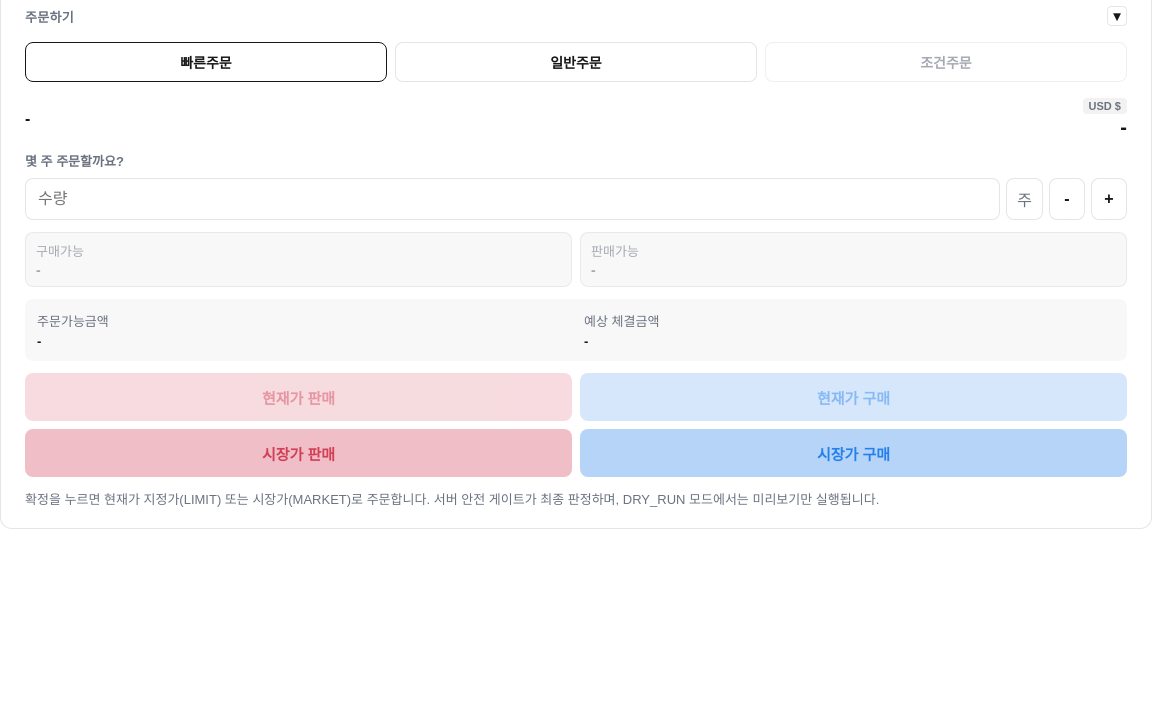
Test: OrderForm — general order › submits confirm:false and renders the DRY_RUN preview
The width and height of the screenshot is (1152, 705).
Click the tab "일반주문". click: coordinates (576, 62)
box: x1=395 y1=42 x2=757 y2=82
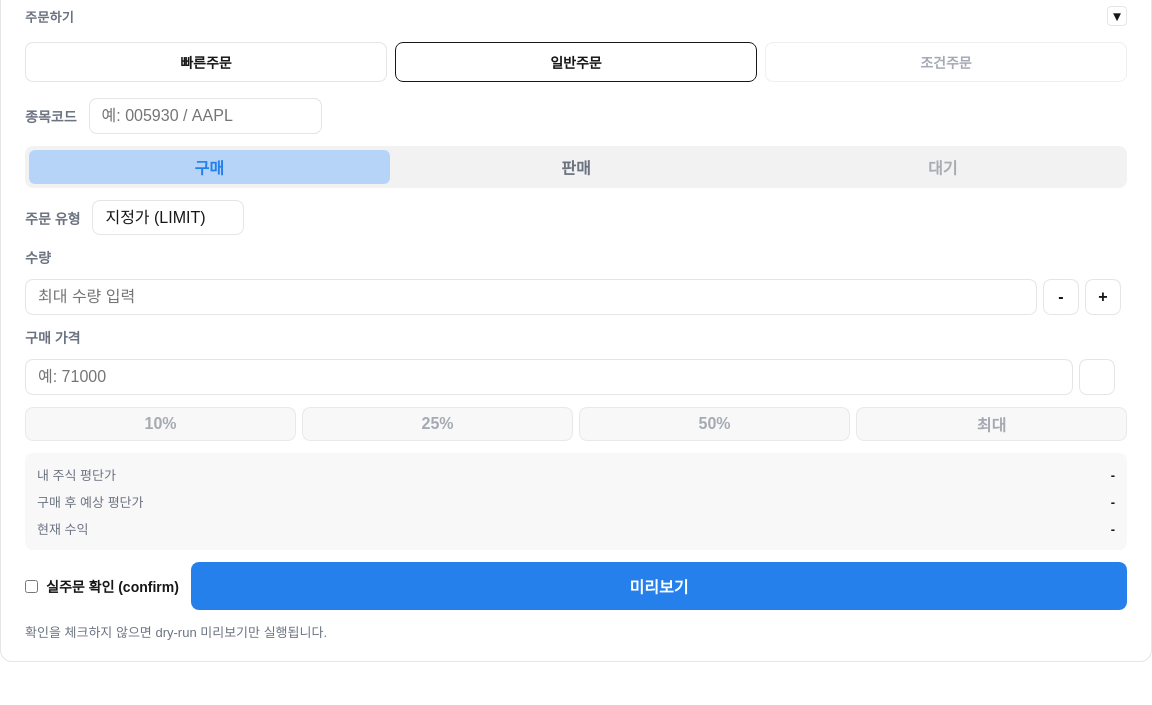
Type "005930" into the field labelled "종목코드". click: coordinates (205, 116)
box: x1=88 y1=98 x2=322 y2=134
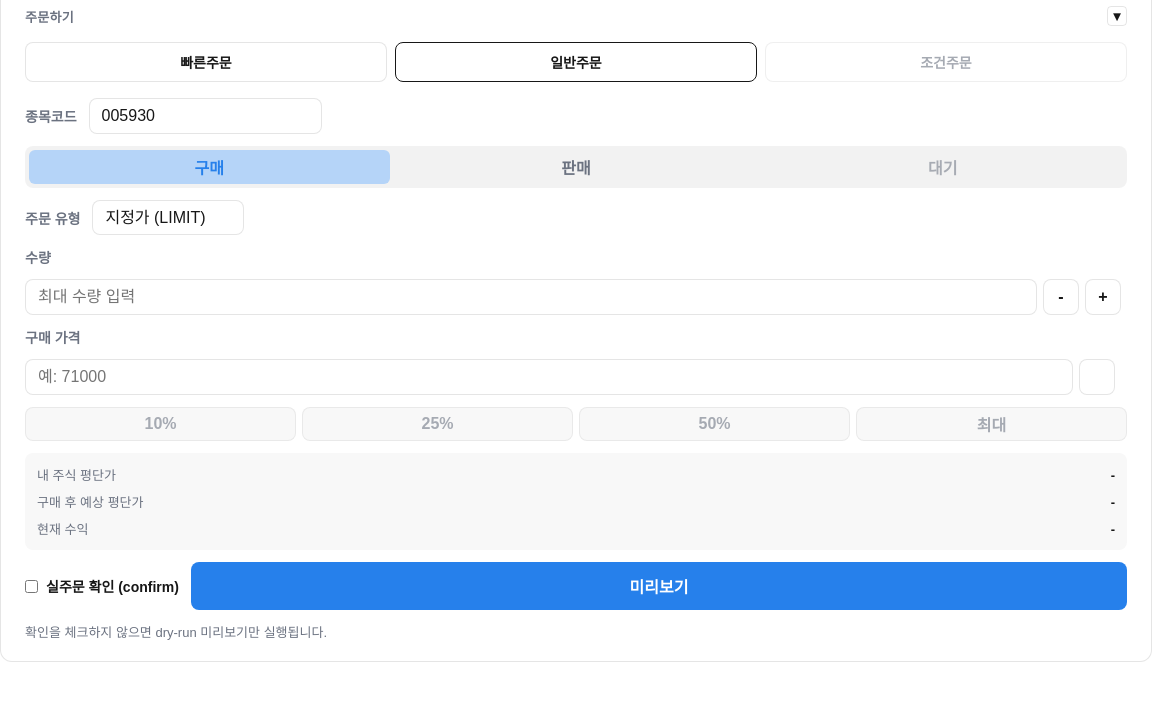
Type "10" into the field labelled "수량". click: coordinates (531, 297)
box: x1=25 y1=279 x2=1037 y2=315
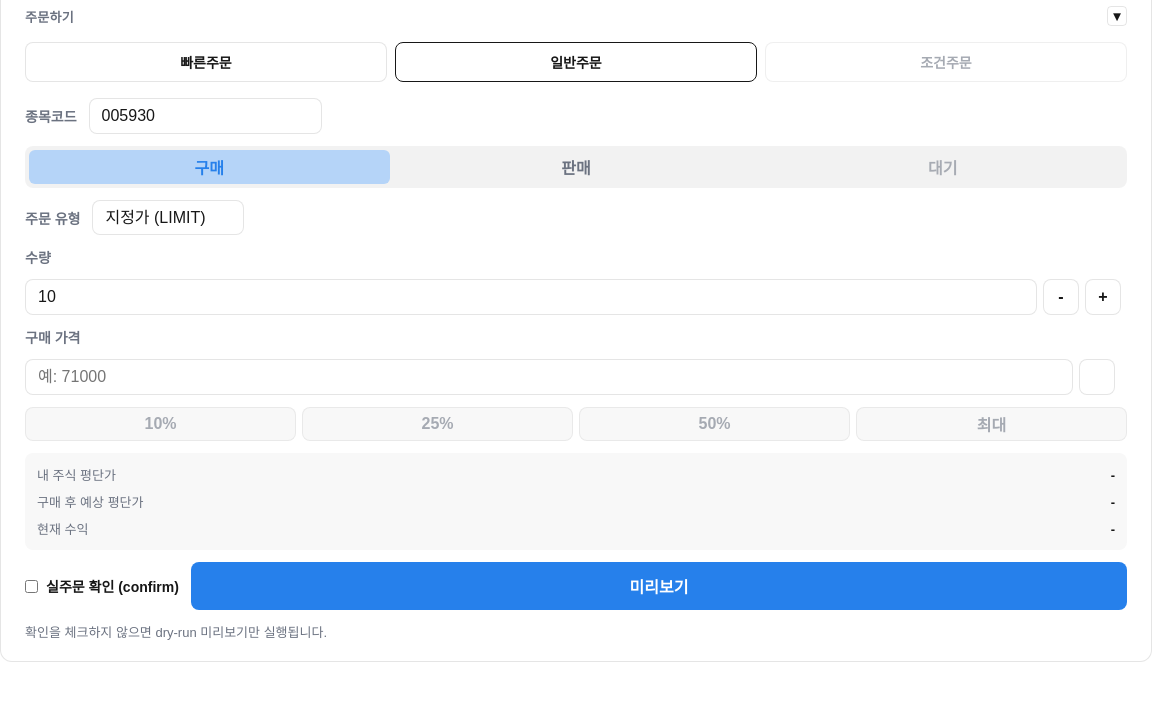
Type "71000" into the field labelled "구매 가격". click: coordinates (549, 377)
box: x1=25 y1=359 x2=1073 y2=395
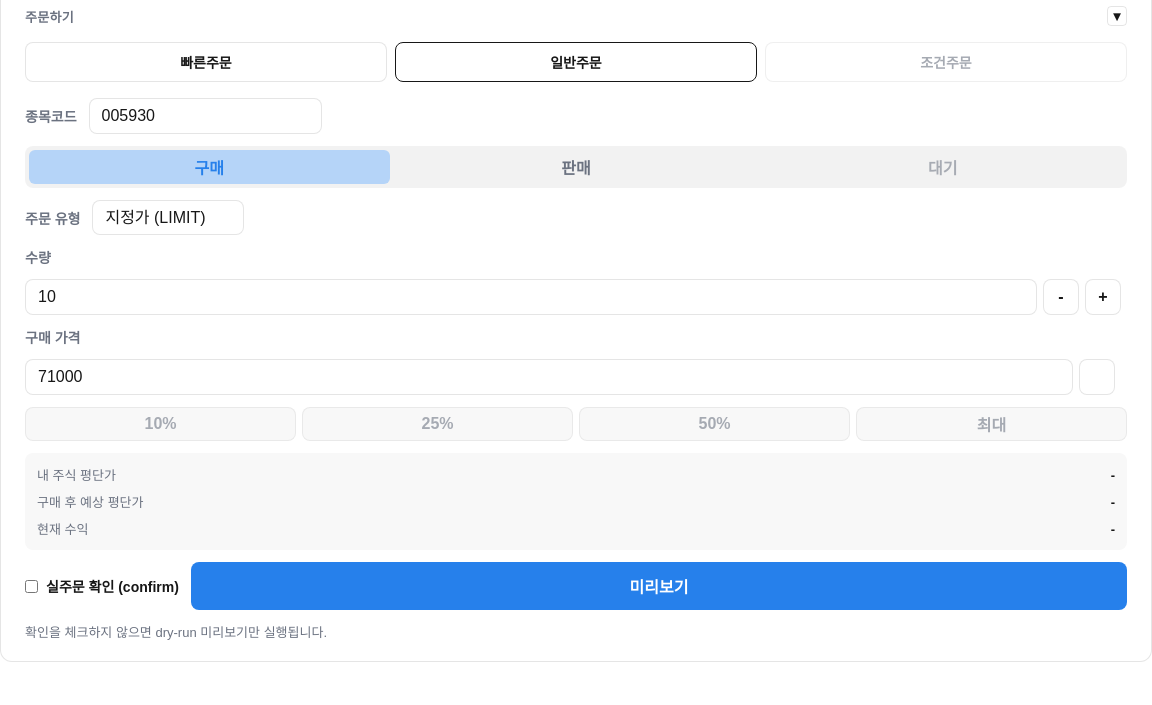
Click the button "미리보기". click: coordinates (659, 586)
box: x1=191 y1=562 x2=1127 y2=610
(page scrolled)
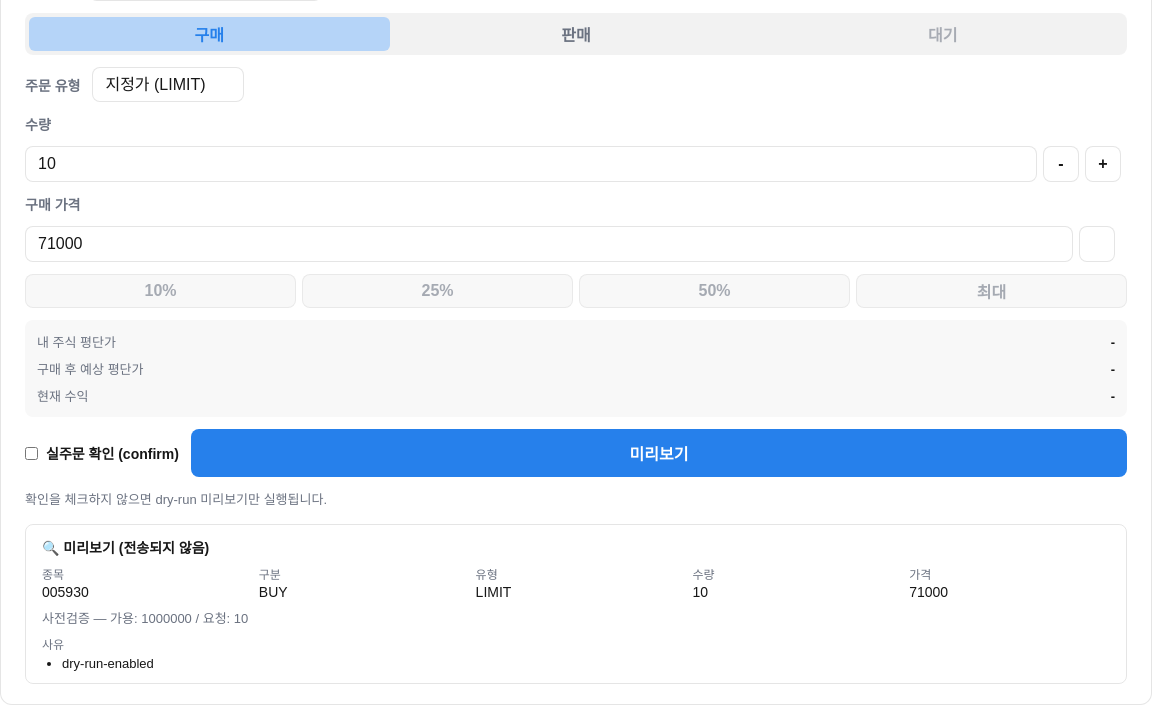
Check: the text "🔍 미리보기 (전송되지 않음)" is shown, box x1=42 y1=540 x2=209 y2=556
Check: the list item "dry-run-enabled" is shown, box x1=62 y1=656 x2=154 y2=671
